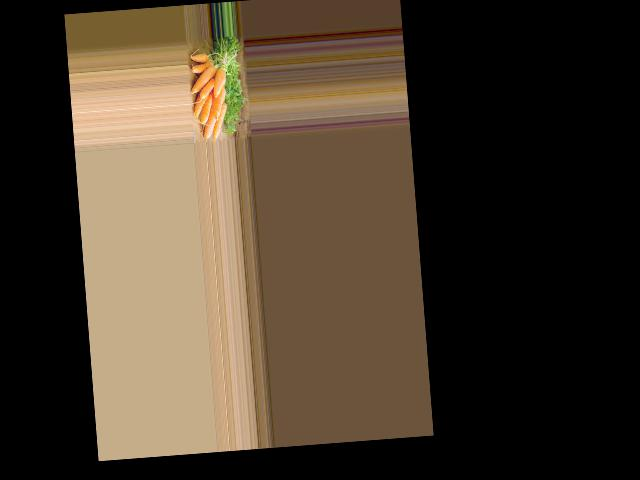carrot: (189, 62, 221, 93)
